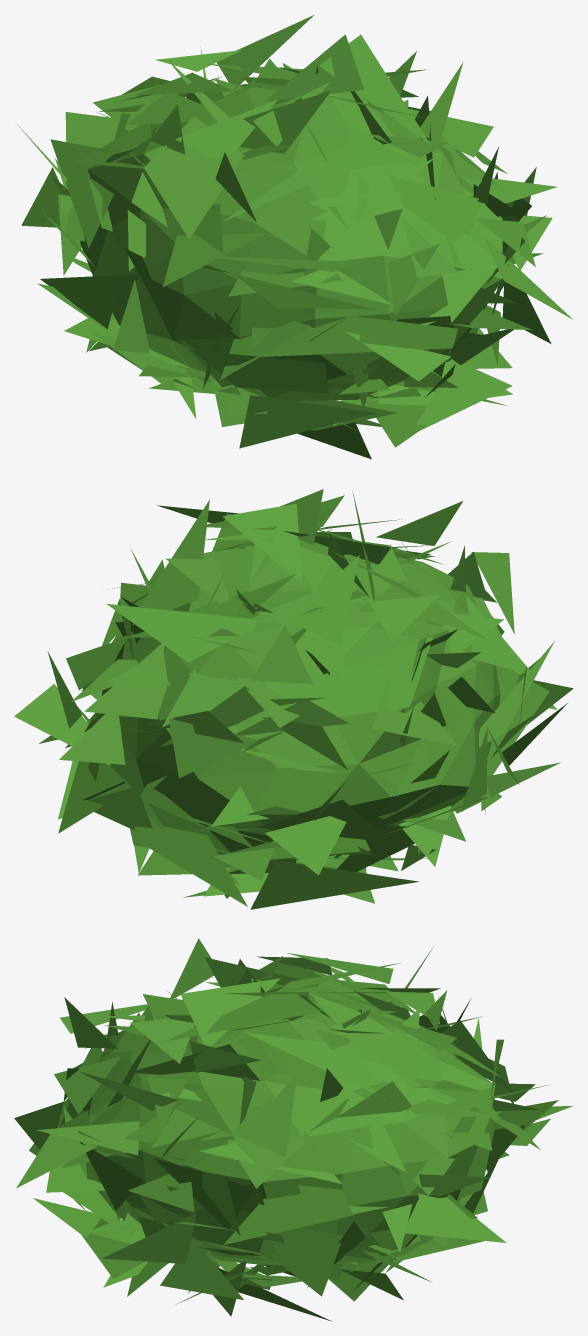
File: Bush 2.fbx
3 views of the same model, one above another, from view 1: azimuth 30°, elevation 25°; view 2: azimuth 150°, elevation 25°; view 3: azimuth 270°, elevation 25° (orthographic). The views are drawn at different scales.
Visible parts, largest first — view 1: Bush .005; view 2: Bush .005; view 3: Bush .005.
Boxes of the visible parts, x1,y1,x2,y2 form: Bush .005: (15, 15, 573, 459); Bush .005: (14, 489, 573, 909); Bush .005: (14, 938, 573, 1321).
Size of the model in its own units: 196 by 157 by 240.
